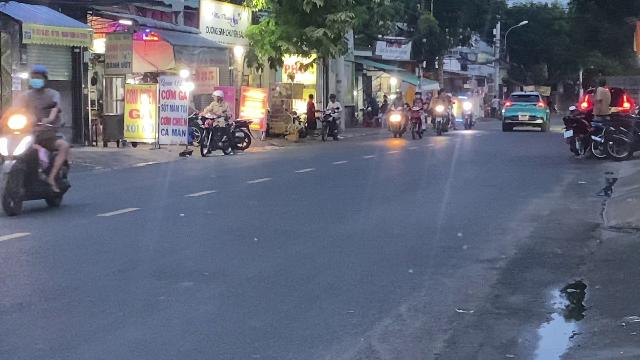helmet: (27, 64, 49, 90)
motorcyclist: (0, 62, 76, 218)
